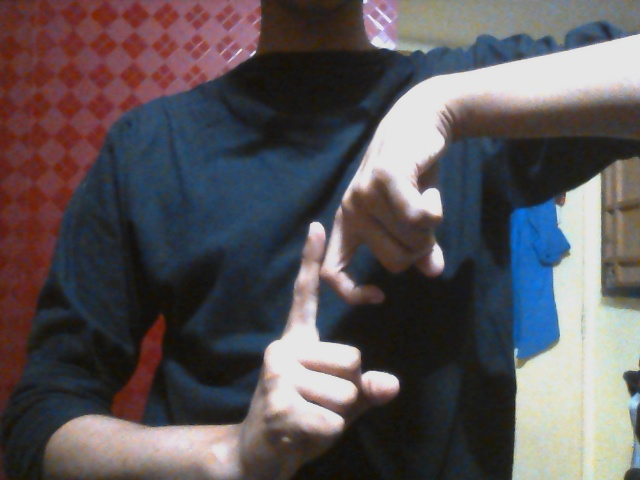K: (267, 175, 445, 451)
